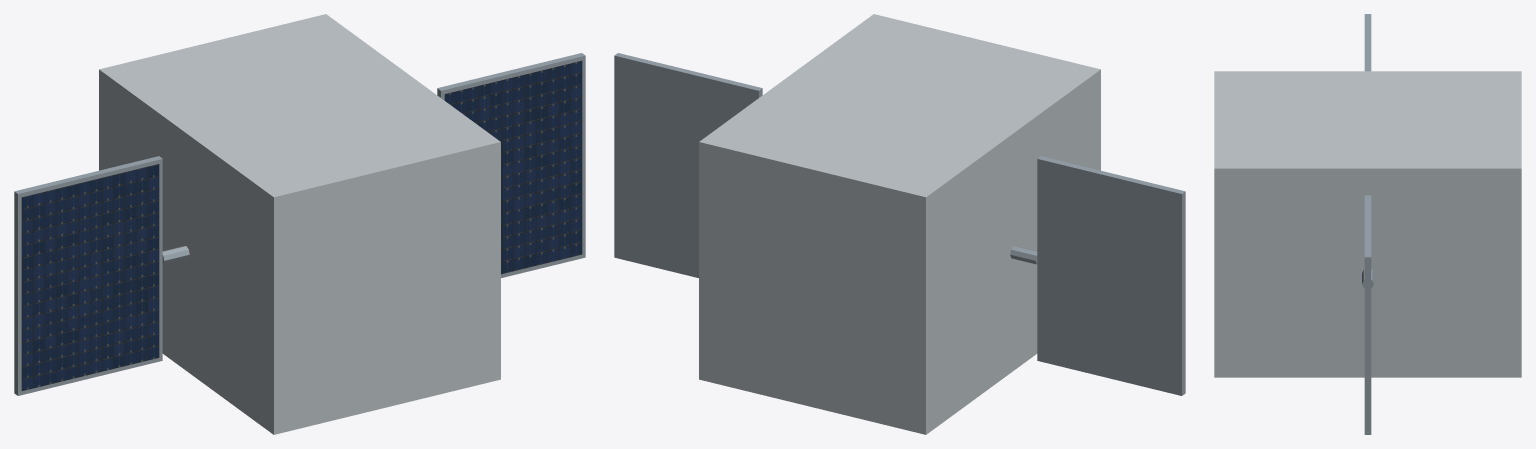
File: ref-proba-36037.glb
3 renders of one model, left to right at view 1: azimuth 30°, elevation 25°; view 2: azimuth 150°, elevation 25°; view 3: azimuth 270°, elevation 25°, orthographic. The views are drawn at different scales.
Visible parts, largest first — view 1: Spacecraft body, Photovoltaic laminates (×2), Array frame (×2); view 2: Spacecraft body, Array frame (×2); view 3: Spacecraft body, Array frame (×2).
Boxes of the visible parts, x1,y1,x2,y2 form: Spacecraft body: (99, 14, 500, 434); Photovoltaic laminates (×2): (21, 61, 582, 390); Array frame (×2): (14, 53, 585, 395); Spacecraft body: (699, 14, 1100, 434); Array frame (×2): (614, 53, 1185, 395); Spacecraft body: (1214, 71, 1521, 377); Array frame (×2): (1364, 14, 1371, 434).
Bounding box in the file's own units: 1.5 × 0.6 × 0.8.
Materials: 3 (1 with a texture image).
